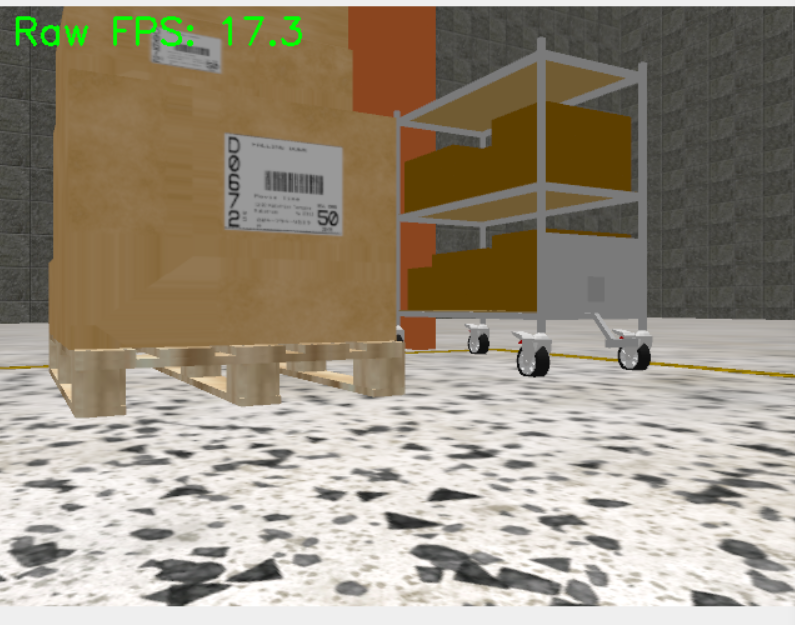barcode: (223, 132, 345, 236)
